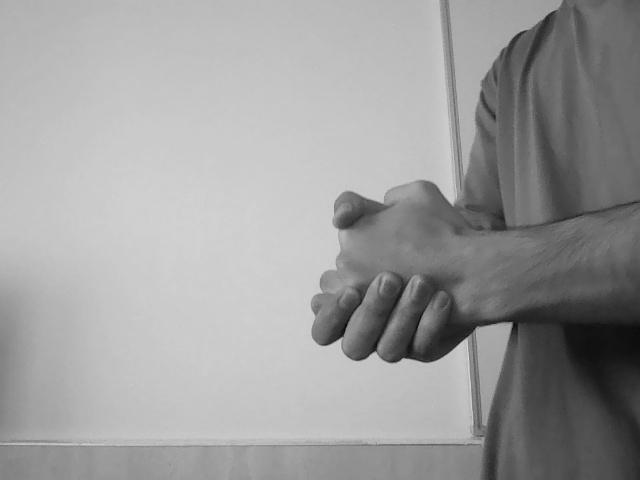friend: (304, 180, 495, 364)
